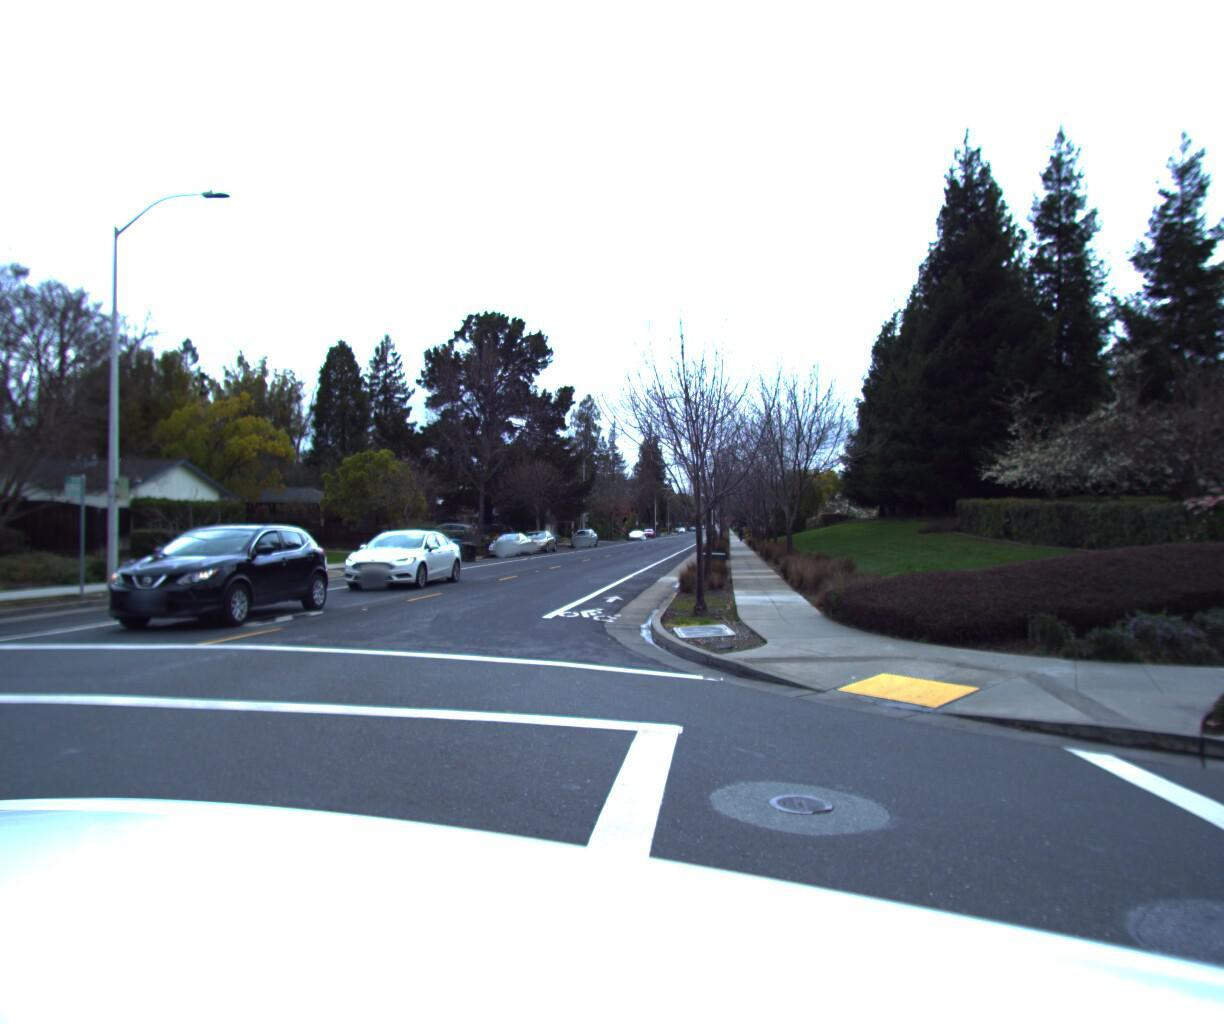car: (83, 521, 336, 638), (335, 524, 469, 594), (485, 535, 535, 562), (517, 532, 561, 557), (568, 531, 600, 550)
